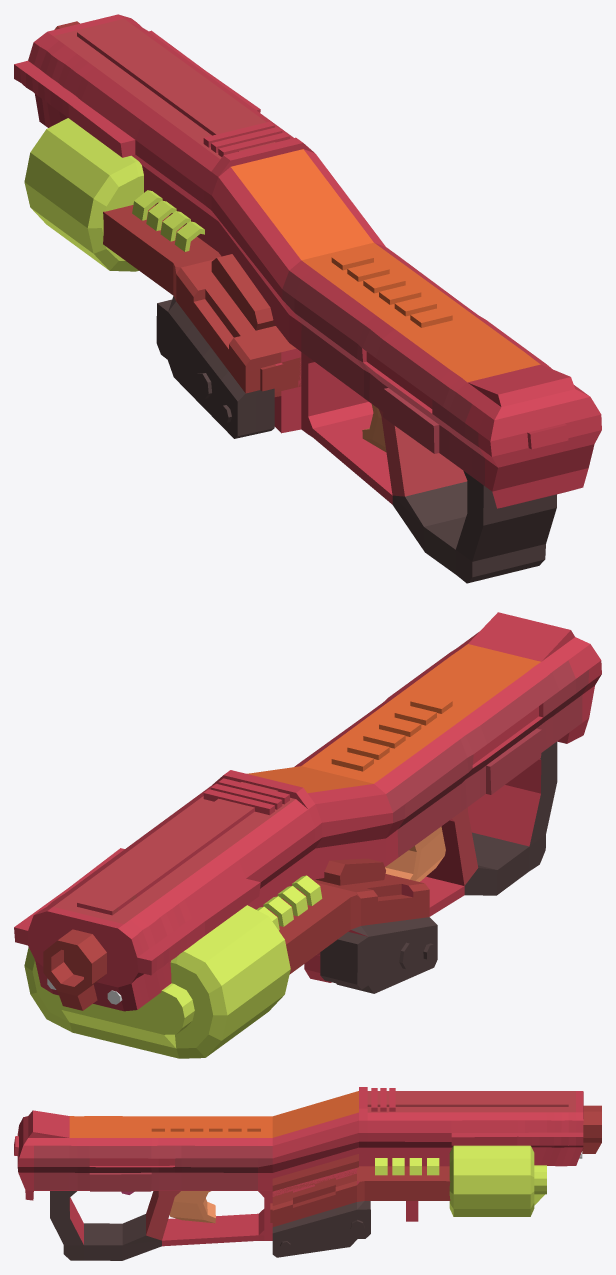
Rendered from shotgun.fbx.
3 renders of one model, top to bottom at view 1: azimuth 30°, elevation 25°; view 2: azimuth 150°, elevation 25°; view 3: azimuth 270°, elevation 25°, orthographic. The views are drawn at different scales.
Visible parts, largest first — view 1: Circle, Circle.007, Cube, Cylinder.018, Circle.010, Cube.001; view 2: Circle, Circle.007, Cylinder.011, Cube, Cylinder.010, Circle.010, Cube.001, Cylinder.018; view 3: Circle, Circle.007, Cylinder.010, Cube, Circle.009, Cylinder.011, Cube.001.
Boxes of the visible parts, x1=… form: Circle: x1=14, y1=14, x2=601, y2=583; Circle.007: x1=24, y1=118, x2=143, y2=271; Cube: x1=331, y1=250, x2=452, y2=327; Cylinder.018: x1=211, y1=254, x2=275, y2=330; Circle.010: x1=132, y1=190, x2=204, y2=251; Cube.001: x1=203, y1=121, x2=289, y2=156; Circle: x1=14, y1=612, x2=601, y2=1011; Circle.007: x1=24, y1=905, x2=290, y2=1058; Cylinder.011: x1=43, y1=929, x2=106, y2=1010; Cube: x1=331, y1=693, x2=452, y2=771; Cylinder.010: x1=385, y1=826, x2=445, y2=881; Circle.010: x1=256, y1=875, x2=322, y2=930; Cube.001: x1=203, y1=778, x2=289, y2=815; Cylinder.018: x1=315, y1=858, x2=385, y2=885; Circle: x1=14, y1=1087, x2=583, y2=1260; Circle.007: x1=449, y1=1145, x2=546, y2=1216; Cylinder.010: x1=169, y1=1191, x2=215, y2=1223; Cube: x1=151, y1=1119, x2=260, y2=1131; Circle.009: x1=375, y1=1158, x2=439, y2=1175; Cylinder.011: x1=582, y1=1105, x2=601, y2=1153; Cube.001: x1=371, y1=1088, x2=395, y2=1111.
Bounding box in the file's own units: 908 × 1040 × 3639.
